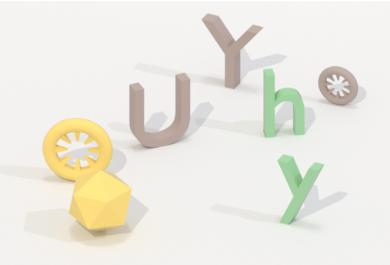0-TronCanh: (38, 115, 116, 184), (67, 168, 136, 237)
0-TronLo: (314, 62, 361, 107)
U: (125, 69, 194, 154)
Y: (197, 8, 264, 90)
h: (258, 62, 307, 141)
y: (272, 150, 326, 228)
